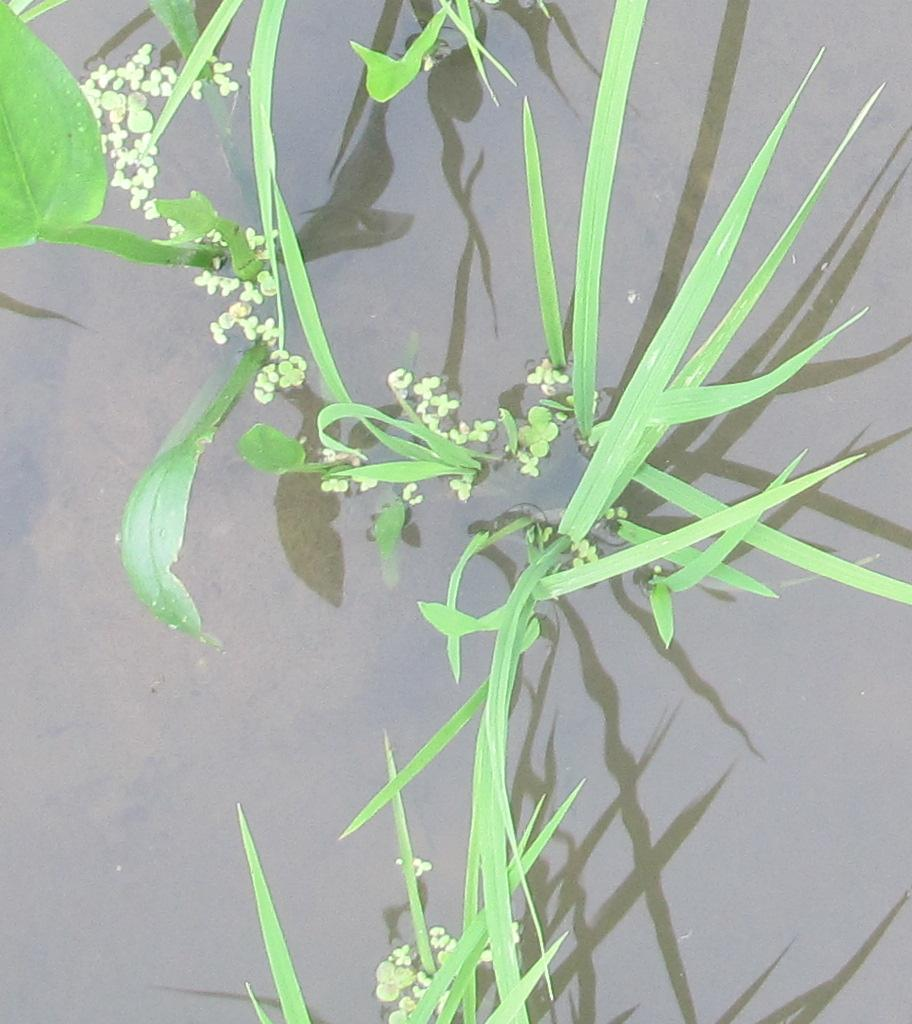Weed: (258, 353, 563, 497), (5, 11, 119, 255)
